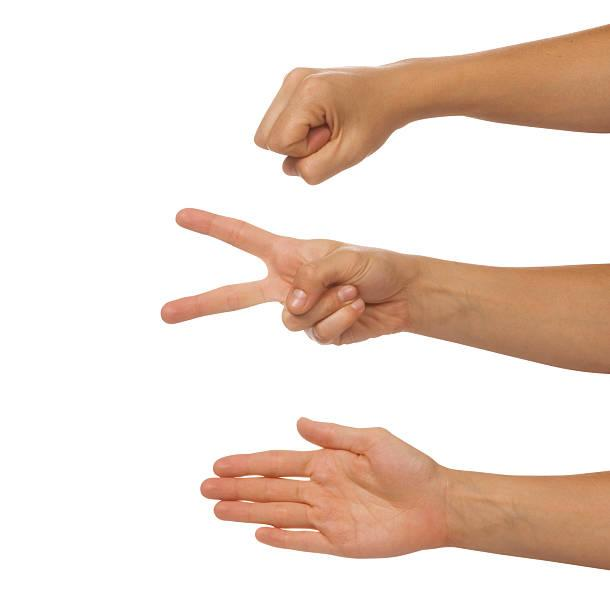paper: (195, 410, 453, 572)
rock: (251, 52, 415, 187)
scissors: (155, 202, 414, 360)
